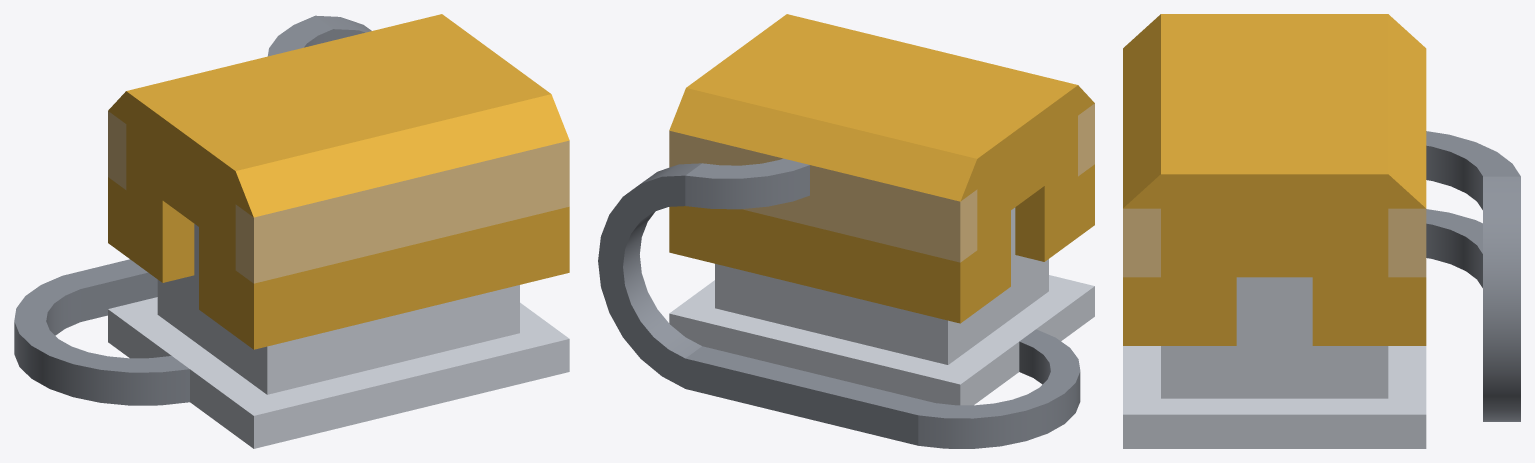
The model's file is moxie.glb.
The picture shows the model from 3 angles, left to right: view 1: azimuth 30°, elevation 25°; view 2: azimuth 150°, elevation 25°; view 3: azimuth 270°, elevation 25°; orthographic projection. The views are drawn at different scales.
Visible parts, largest first — view 1: machine_generator, cable; view 2: machine_generator, cable; view 3: machine_generator, cable.
Part boxes in pixels (box(x1,y1,x2,y2)): machine_generator: box(108, 14, 569, 448); cable: box(14, 15, 371, 405); machine_generator: box(669, 14, 1094, 405); cable: box(598, 158, 1080, 448); machine_generator: box(1123, 14, 1426, 448); cable: box(1426, 131, 1520, 421).
Size of the model in its own units: 0.7 by 0.4 by 0.525.
